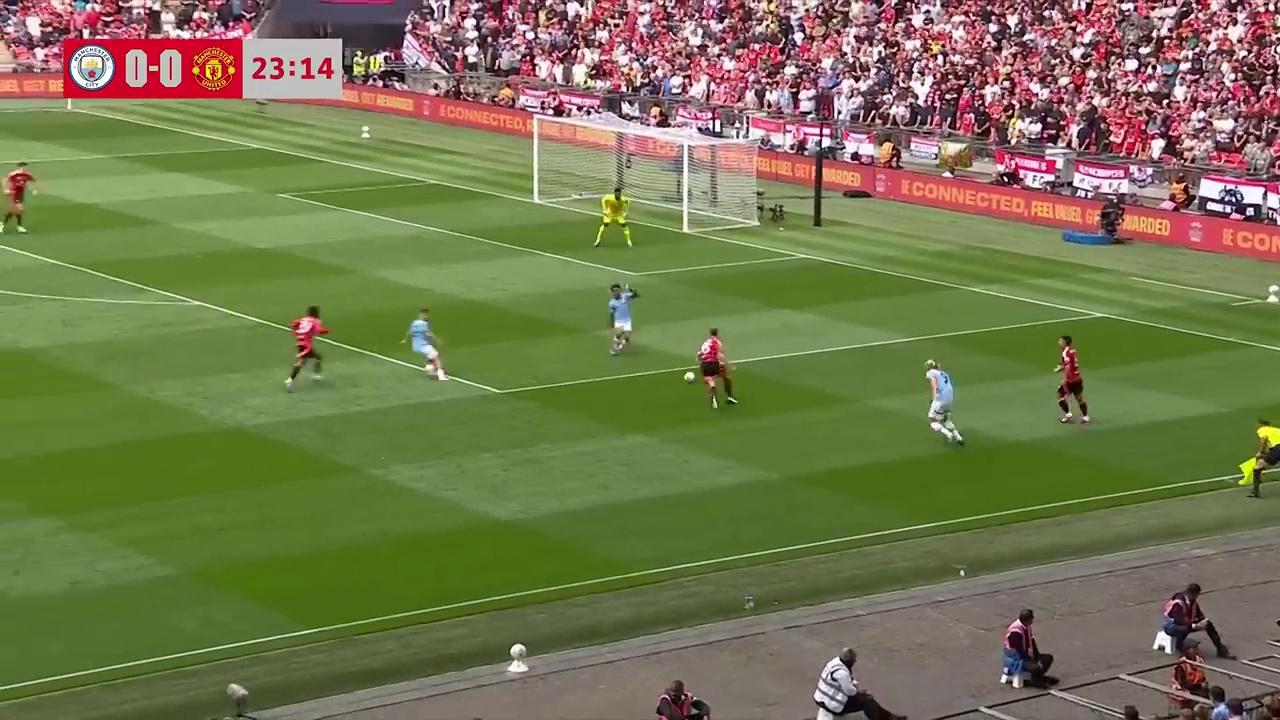ball: (683, 368, 696, 383)
player: (284, 305, 328, 391), (697, 327, 739, 409), (925, 359, 964, 447), (1053, 335, 1090, 425), (400, 308, 445, 380), (592, 188, 633, 248), (607, 283, 637, 355), (4, 162, 37, 223)
referee: (1242, 420, 1277, 498)
